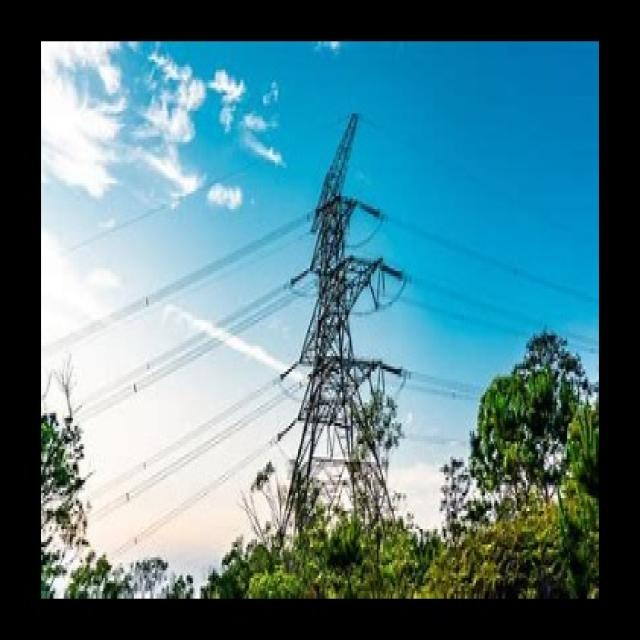utility poles: (453, 275, 573, 481), (320, 348, 400, 518)
